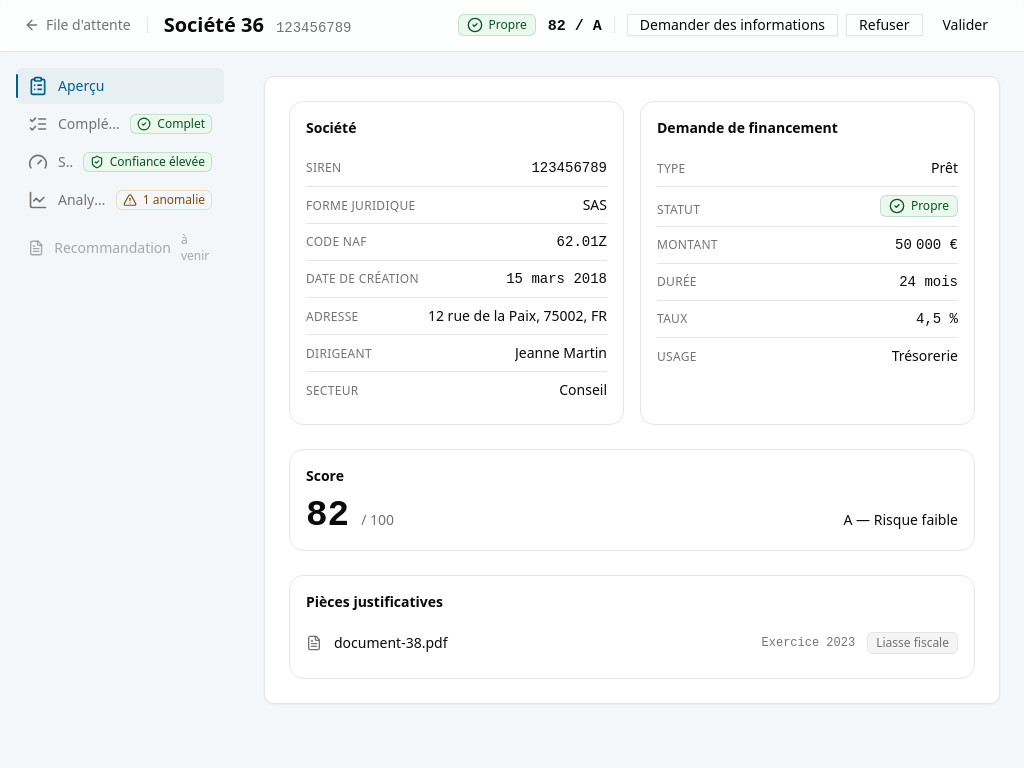
Workspace — Analyse section › hides conforming indicators from the anomaly list but counts them in the expander
Click the button "Analyse financière 1 anomalie".
click(120, 200)  # box [16,182,224,218]
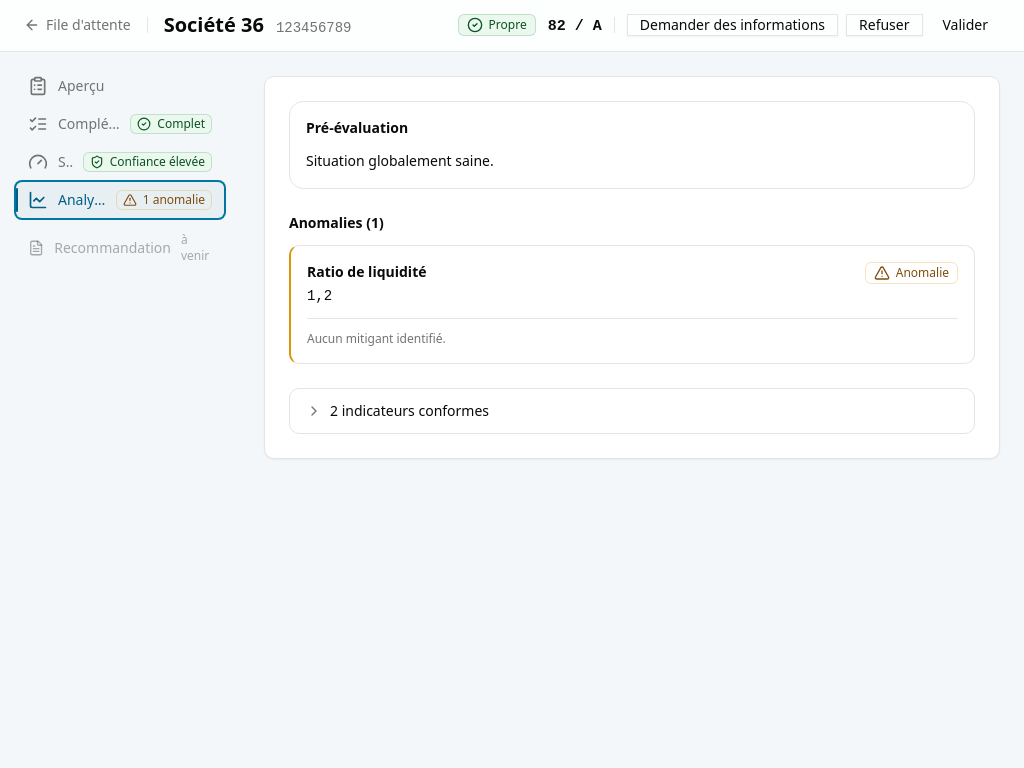
Expected: the heading "Anomalies (1)" is shown, [289,213,384,232]
Expected: the heading "Ratio de liquidité" is shown, [307,262,426,282]
